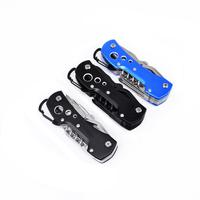knife: (32, 31, 178, 168)
